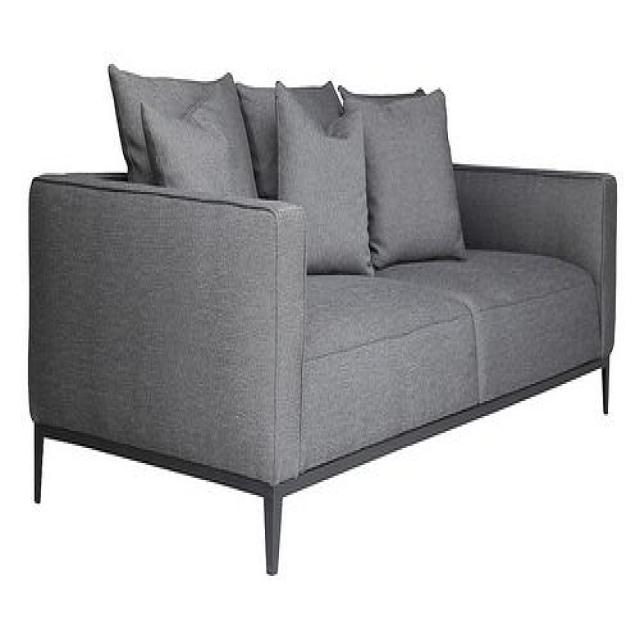sofa: (25, 62, 621, 578)
